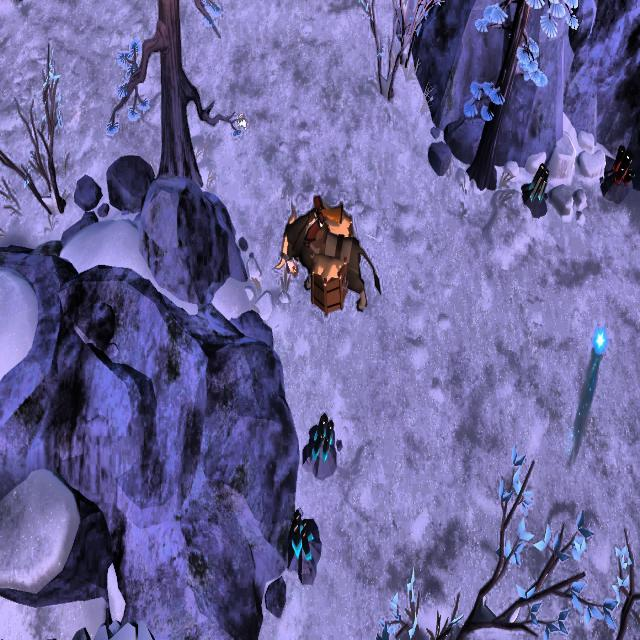ore_t4: (287, 505, 313, 570), (306, 411, 337, 462), (522, 165, 551, 214)
ore_t5: (608, 146, 636, 190)
